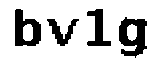1: (84, 9, 113, 52)
b: (12, 7, 42, 52)
g: (115, 15, 153, 60)
v: (46, 15, 80, 49)
